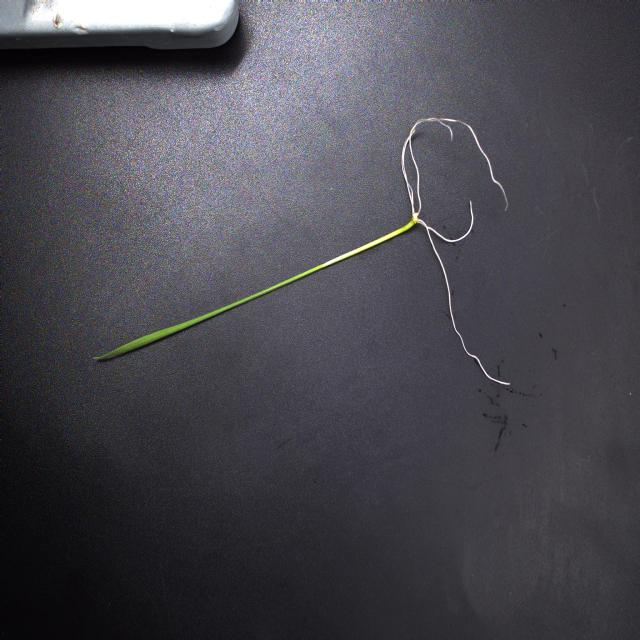leaf: (95, 268, 322, 362)
root: (401, 117, 513, 389)
stem: (301, 218, 417, 277)
